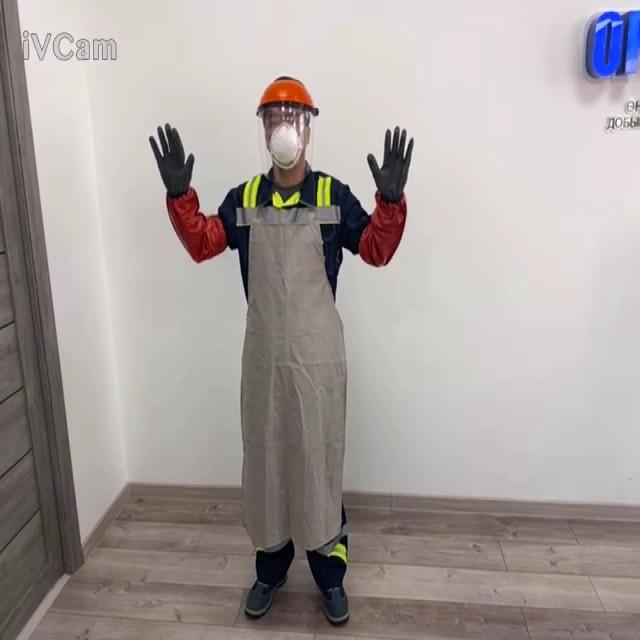Gloves: (148, 121, 227, 263), (366, 125, 414, 203), (148, 121, 194, 199)
Mask: (267, 120, 303, 171)
Protective apron: (235, 199, 348, 553)
Safety Shoes: (244, 573, 287, 616), (321, 584, 349, 623)
Sleeve: (165, 185, 227, 263), (358, 189, 406, 267)
